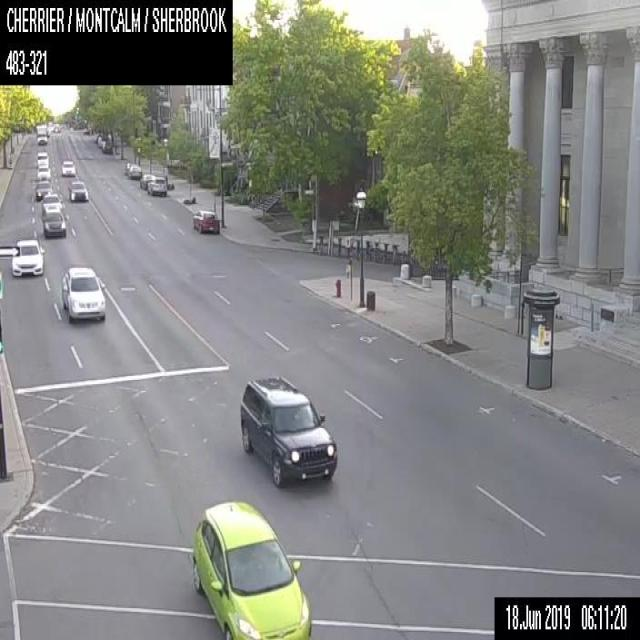vehicle: (189, 497, 313, 639), (238, 375, 337, 488), (60, 266, 104, 322), (10, 238, 45, 277), (191, 208, 220, 235), (41, 208, 66, 239), (40, 193, 62, 216), (146, 175, 167, 196), (68, 180, 88, 202), (35, 180, 53, 200), (35, 164, 51, 180), (139, 173, 155, 189), (60, 159, 75, 176), (35, 125, 47, 144), (36, 151, 49, 166), (101, 138, 113, 154), (128, 165, 141, 178), (123, 161, 135, 174)
